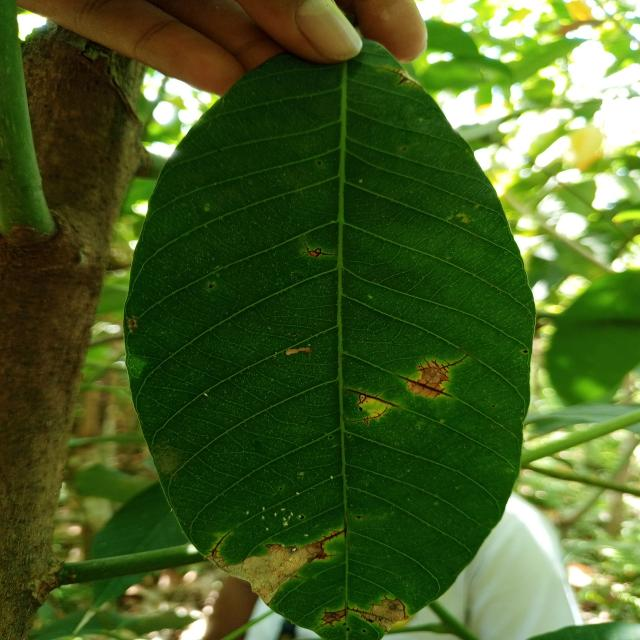Colletotrichum: (266, 543, 272, 548), (291, 547, 297, 552), (523, 350, 528, 353), (347, 627, 350, 631), (362, 630, 366, 632), (343, 623, 346, 625)
Corynespora: (398, 376, 454, 398), (347, 389, 399, 408), (382, 66, 423, 90), (416, 356, 466, 373), (314, 521, 348, 545), (344, 406, 388, 424), (301, 236, 337, 258), (346, 605, 392, 621), (207, 530, 233, 558), (314, 608, 348, 629), (314, 552, 339, 560), (347, 512, 371, 520)
Leaf-Blight: (208, 542, 326, 604), (360, 598, 409, 632)
